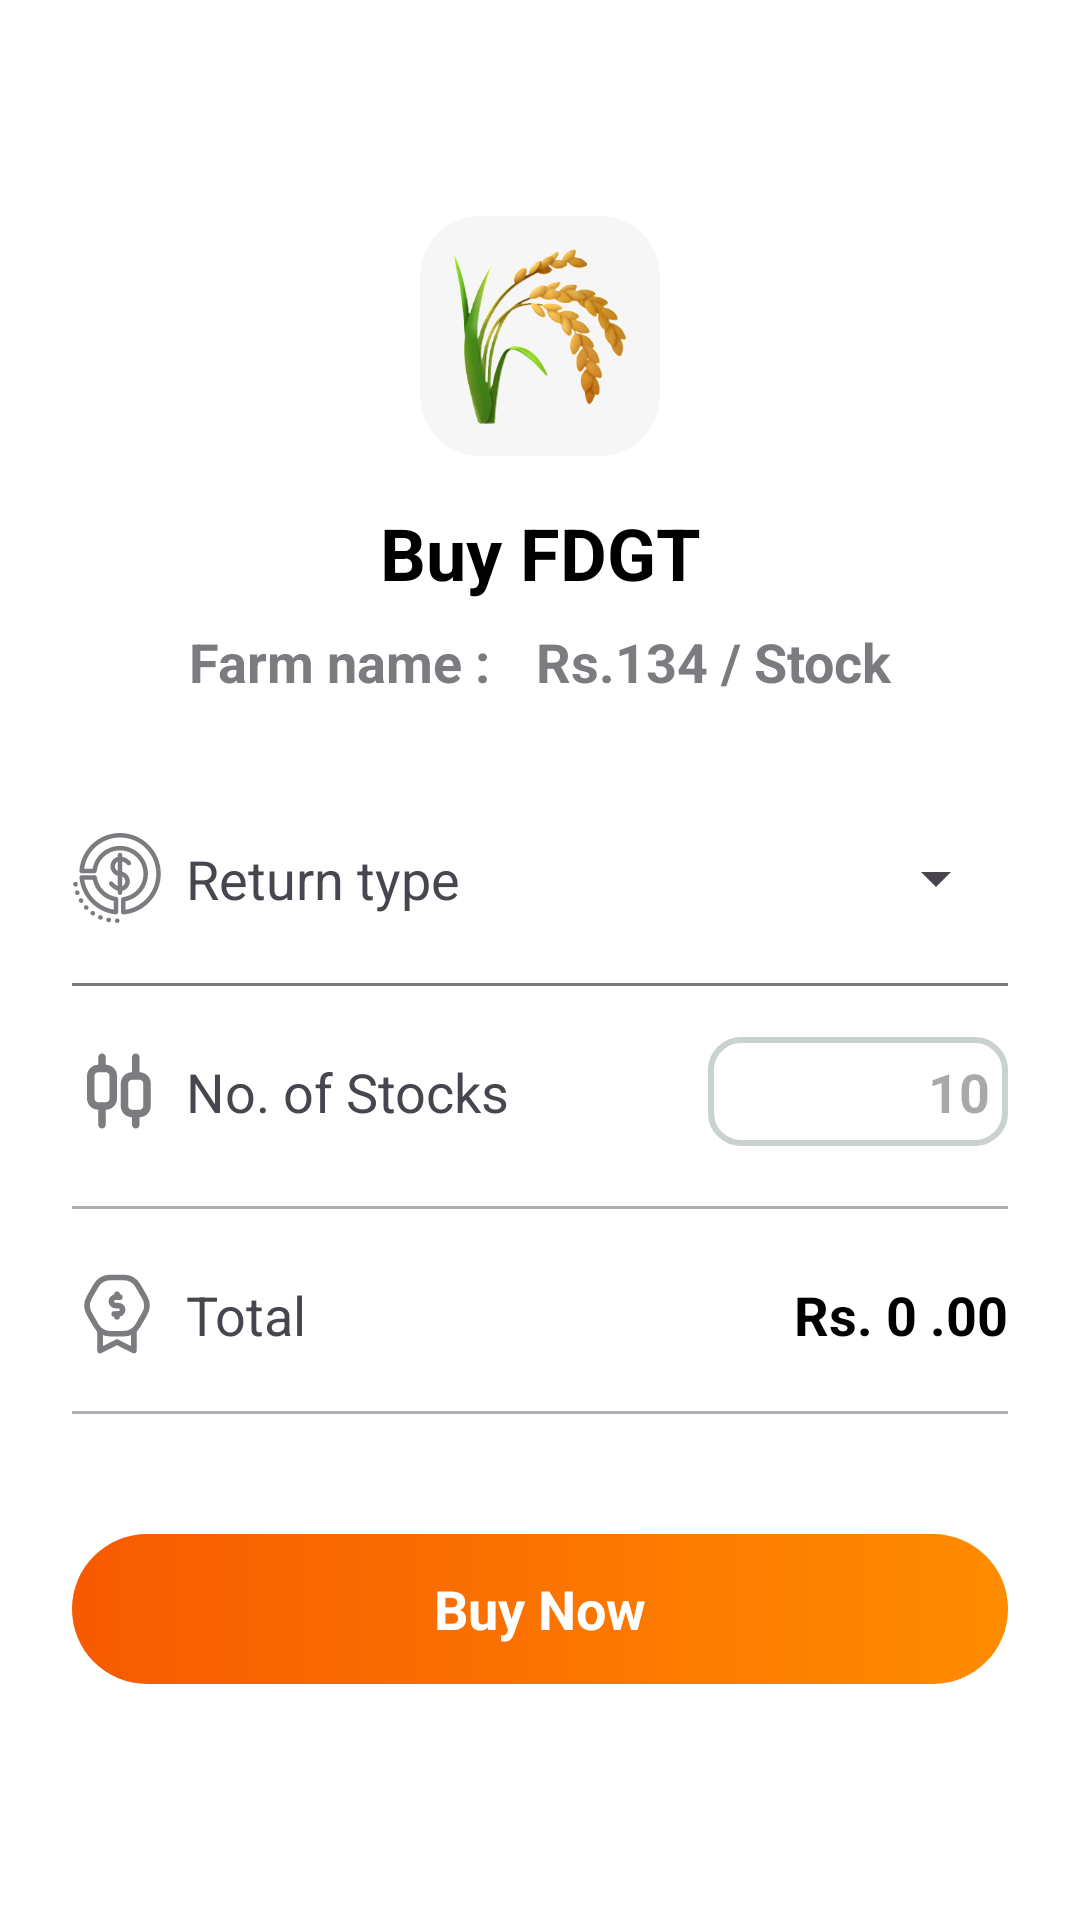

Screen size 1080×1920. Icon name, then its center in pixels as (x,y):
price: (117,1314)
resource return: (117,878)
rice: (540,336)
